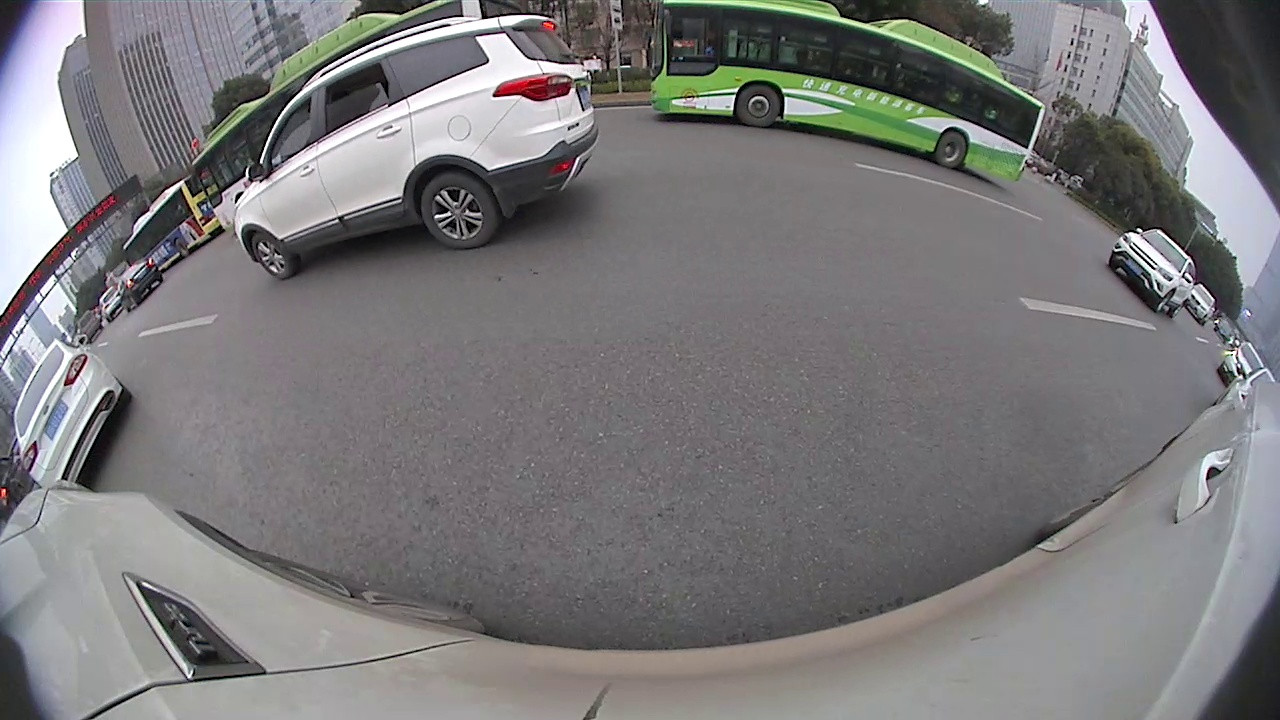bus: (186, 1, 550, 240), (650, 2, 1050, 195)
car: (229, 9, 602, 285), (9, 333, 133, 496), (1107, 222, 1198, 321)
front: (248, 231, 292, 283), (737, 83, 782, 129)
rear: (421, 173, 500, 250), (936, 128, 969, 169)
